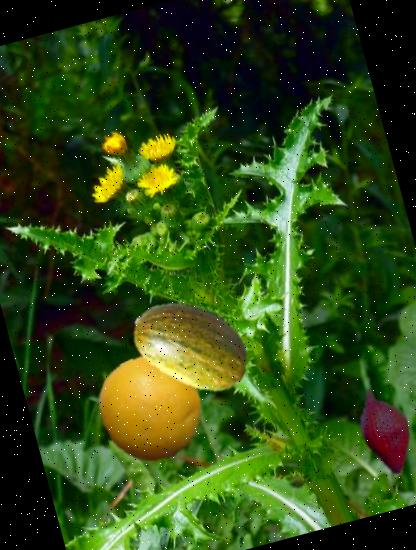Grapefruit: (86, 344, 216, 475)
Melon: (118, 270, 266, 418)
Salak: (329, 373, 416, 486)
